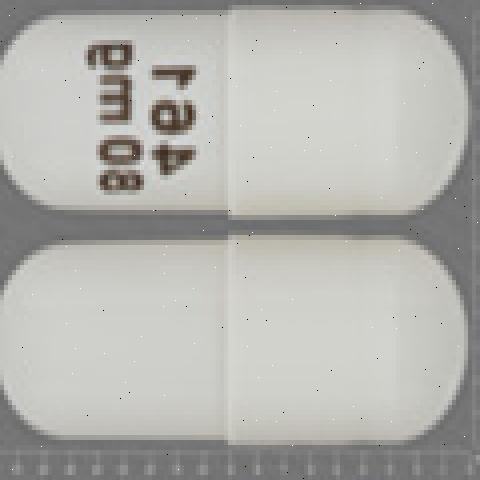Pill: (0, 220, 479, 459), (6, 0, 480, 222)
